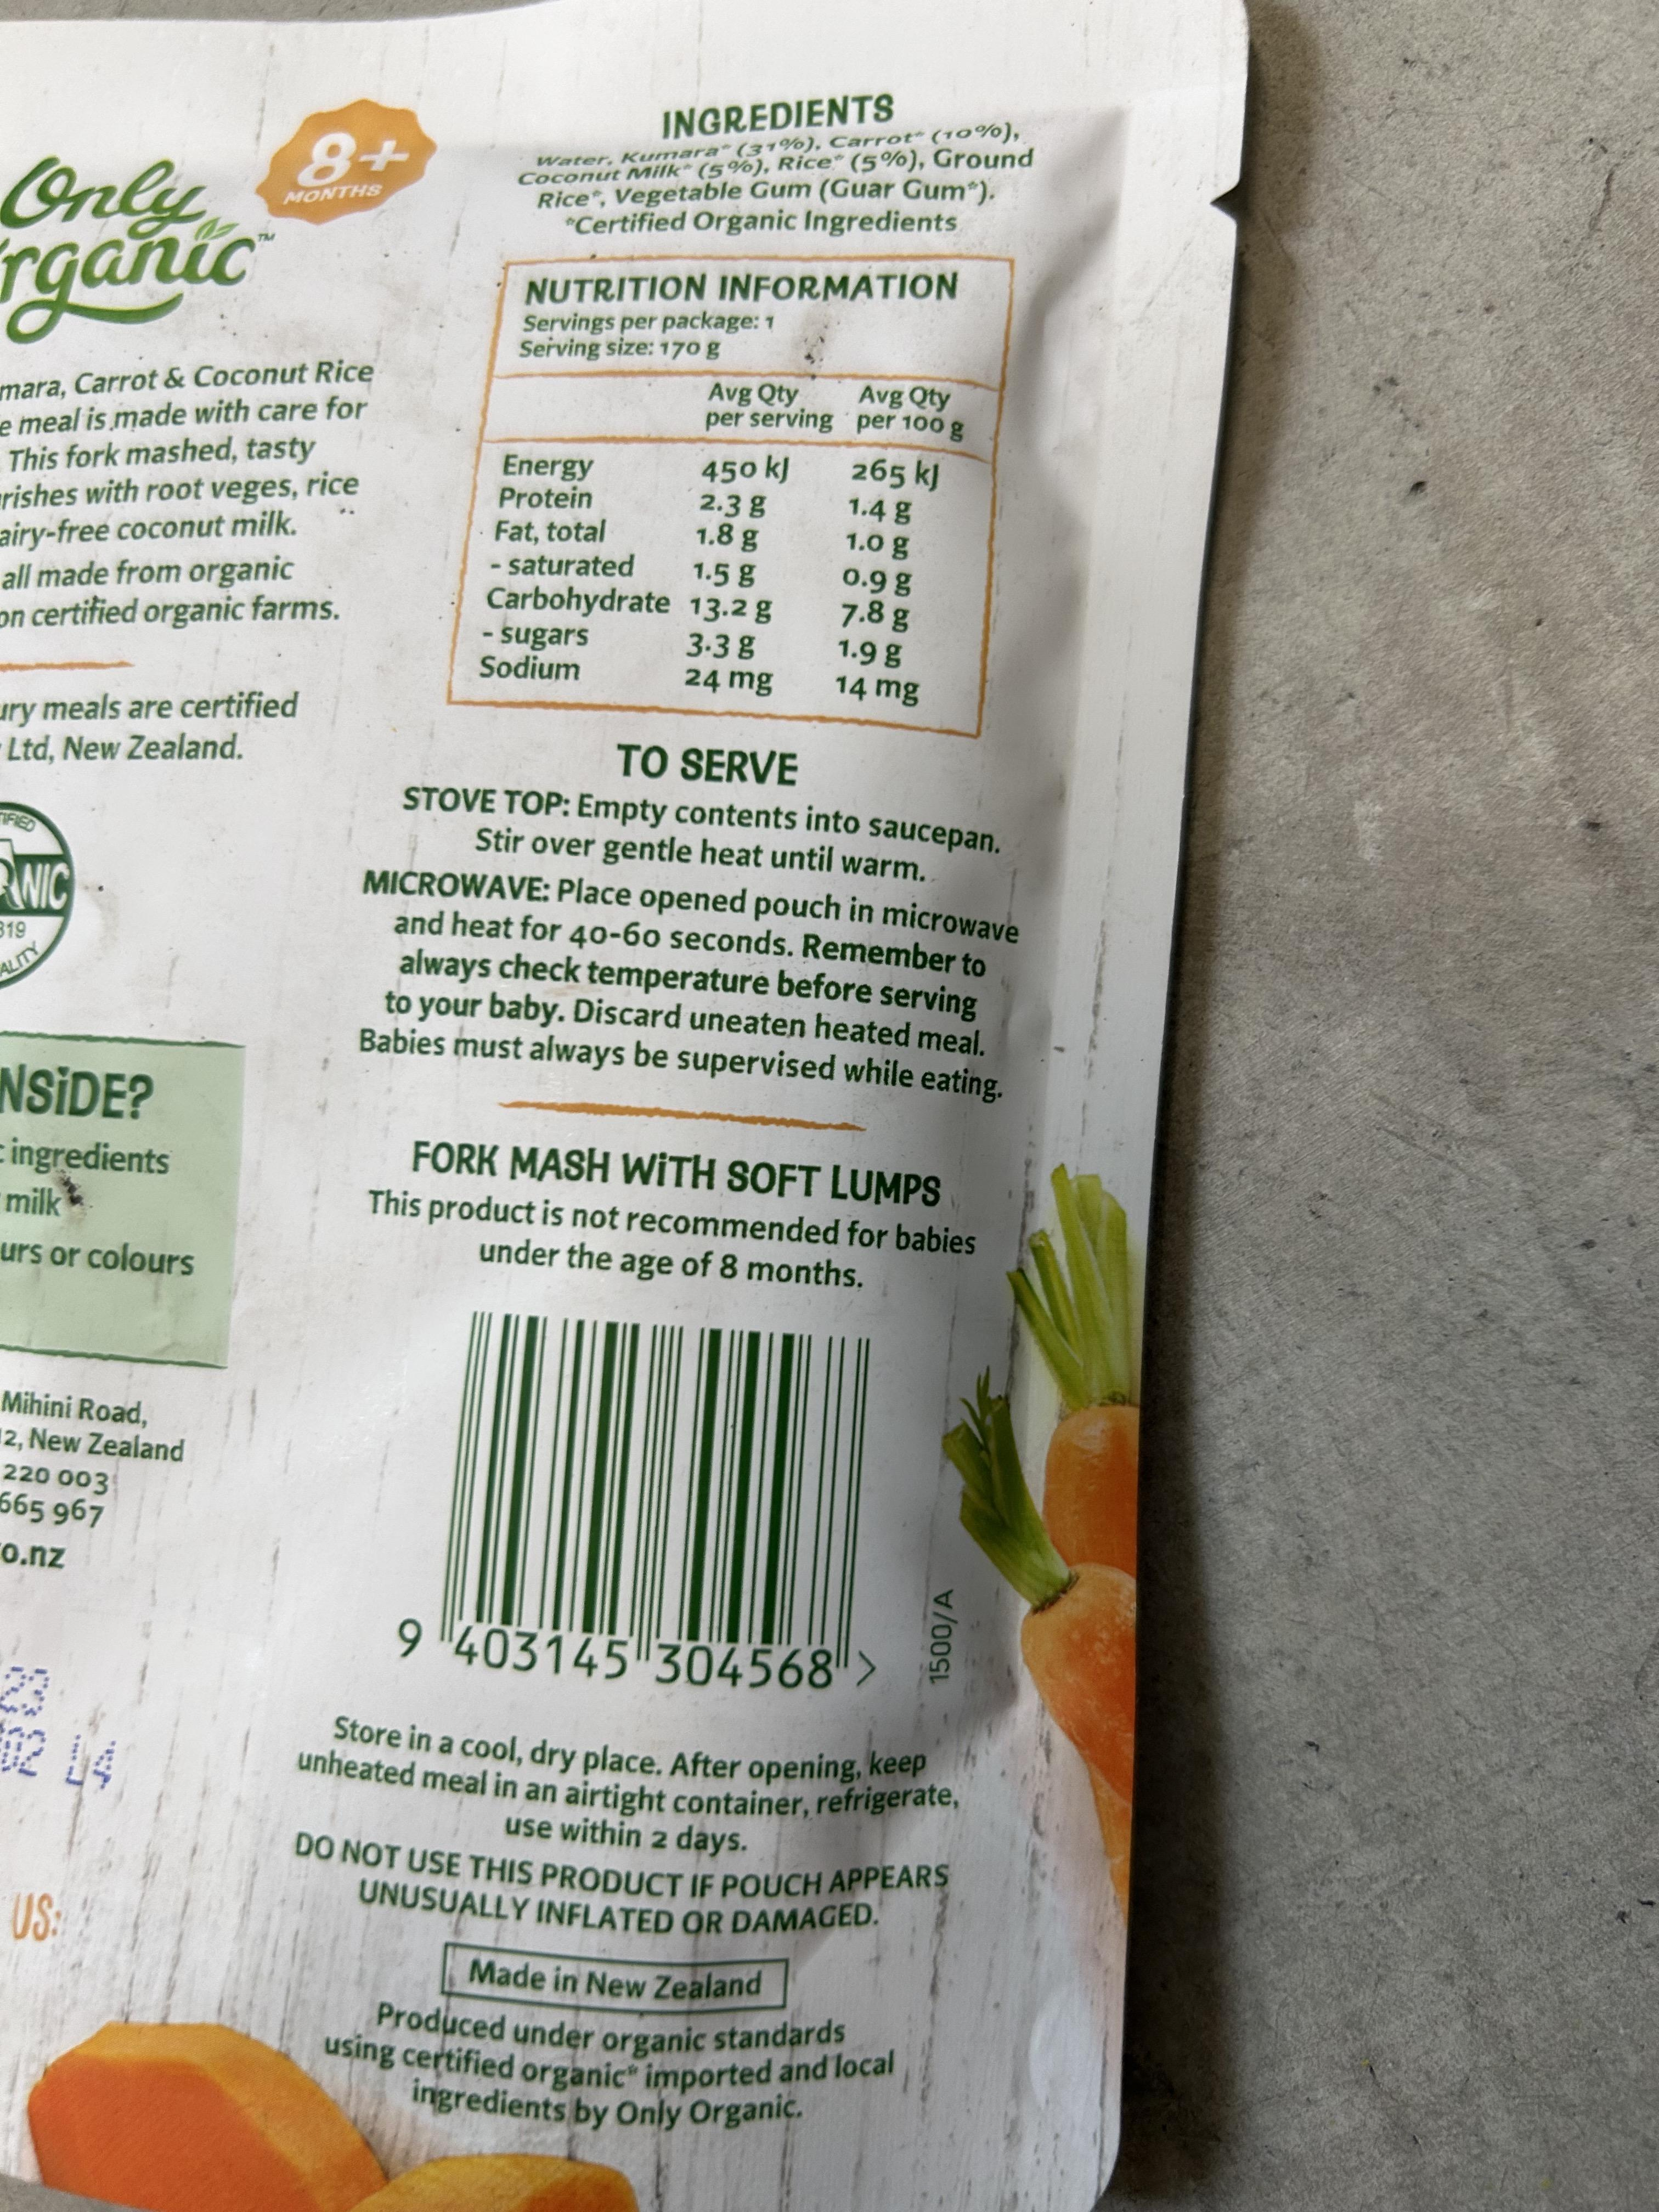object_name: (0, 35, 1098, 2212)
